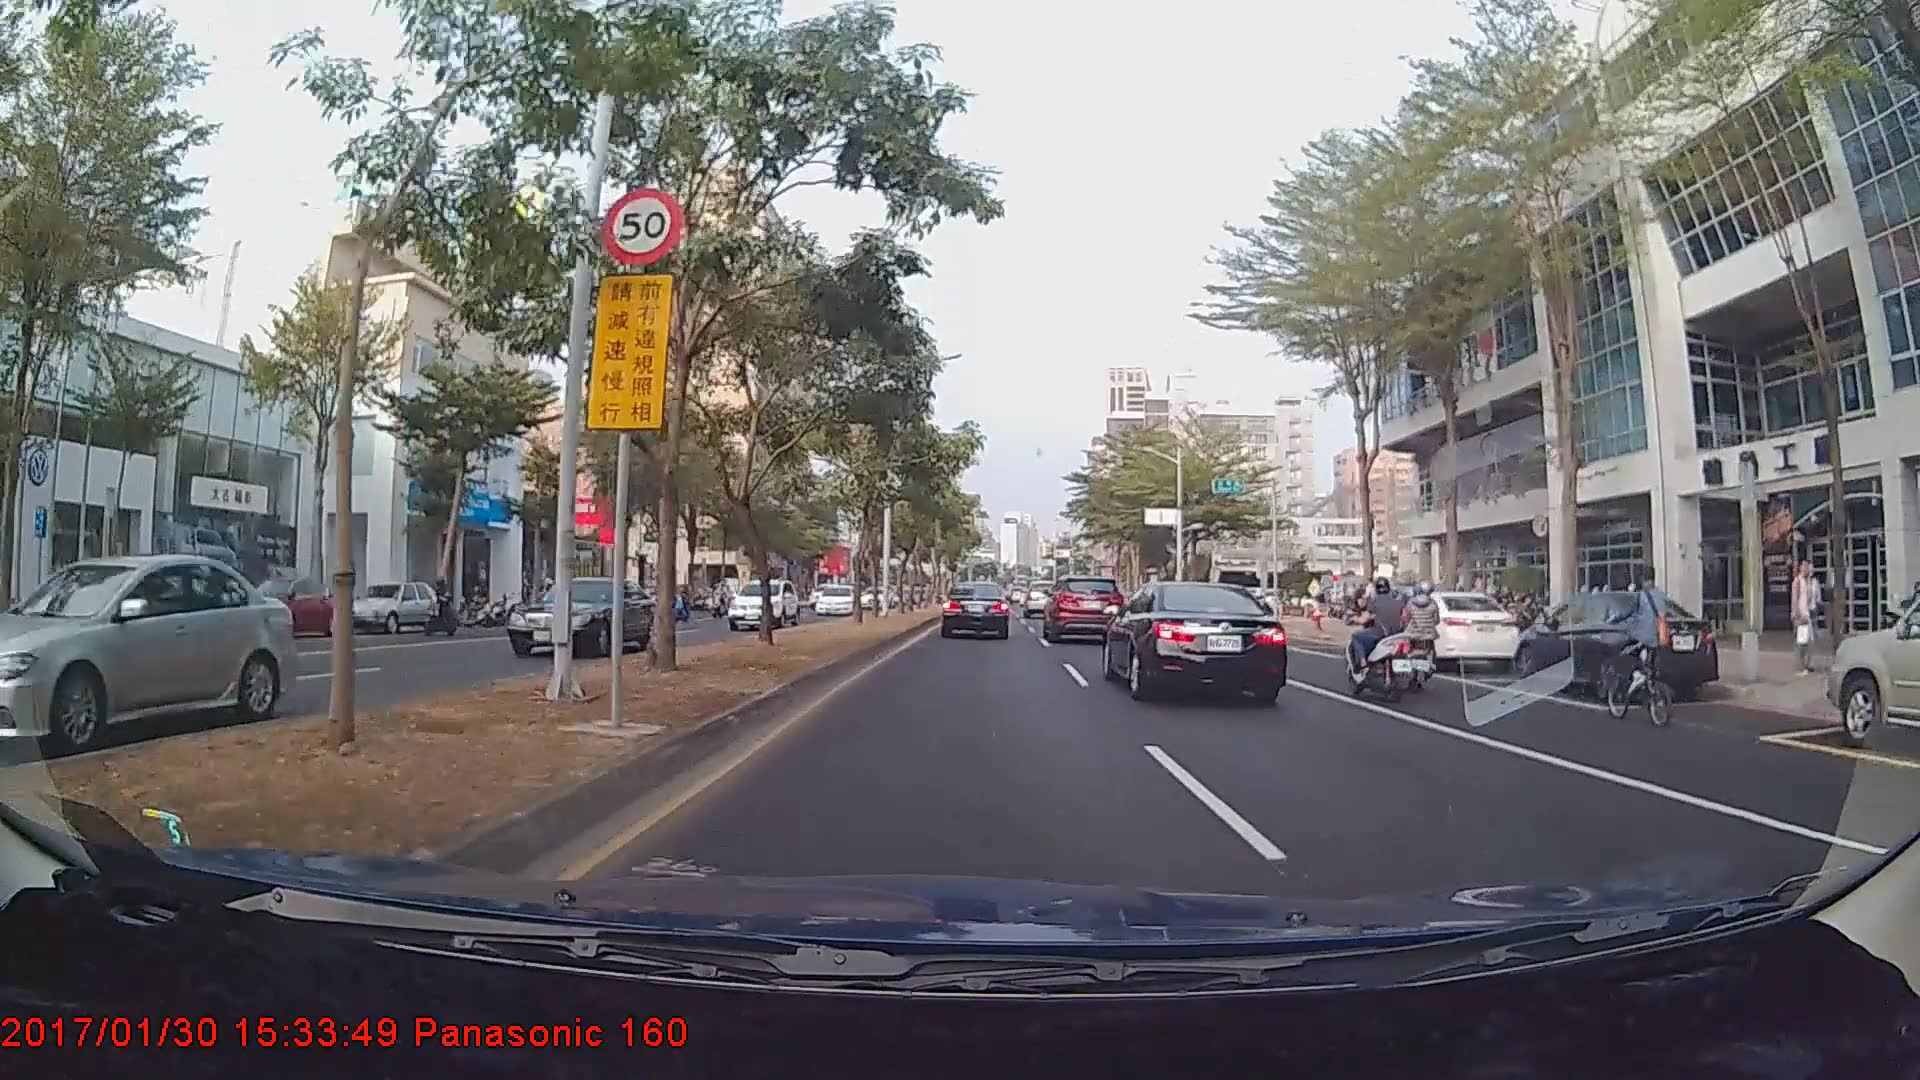pedestrian: (1790, 565, 1819, 679)
rider: (1596, 570, 1681, 732), (1342, 573, 1428, 707), (1394, 579, 1447, 686)
vehicle: (0, 552, 296, 752), (1104, 573, 1288, 705), (1518, 584, 1722, 702), (1824, 577, 1920, 747), (503, 573, 659, 659), (1374, 590, 1522, 674), (216, 576, 344, 639), (342, 581, 447, 634), (1045, 575, 1120, 641), (938, 579, 1011, 640), (725, 577, 800, 631), (1022, 579, 1062, 618), (813, 583, 855, 616)
